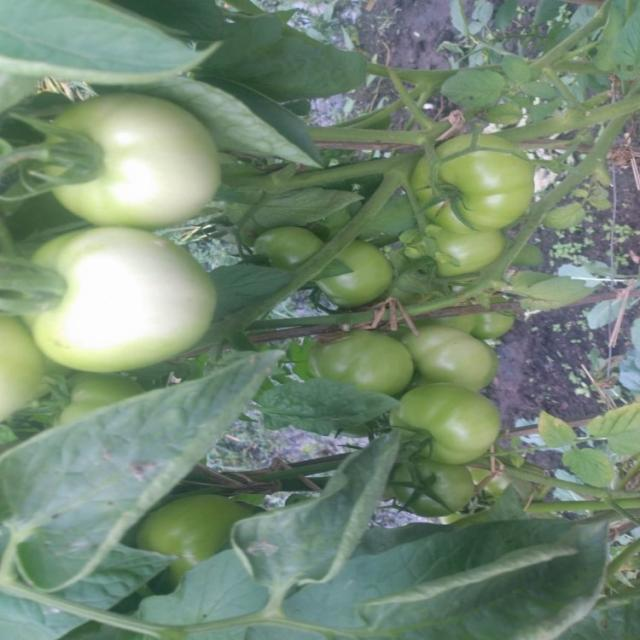tomato: (16, 229, 220, 371), (47, 94, 225, 233), (418, 135, 535, 225), (390, 382, 505, 465), (146, 495, 250, 579), (400, 213, 503, 275), (402, 319, 494, 385), (317, 331, 414, 391), (378, 462, 479, 515), (1, 315, 49, 422), (313, 242, 394, 304), (56, 374, 144, 422), (254, 229, 311, 264), (476, 309, 509, 337)
